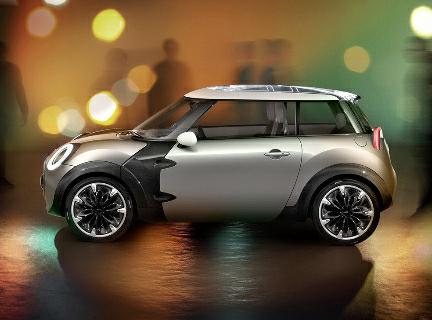MINI-ROCKETMAN: (51, 94, 401, 241)
